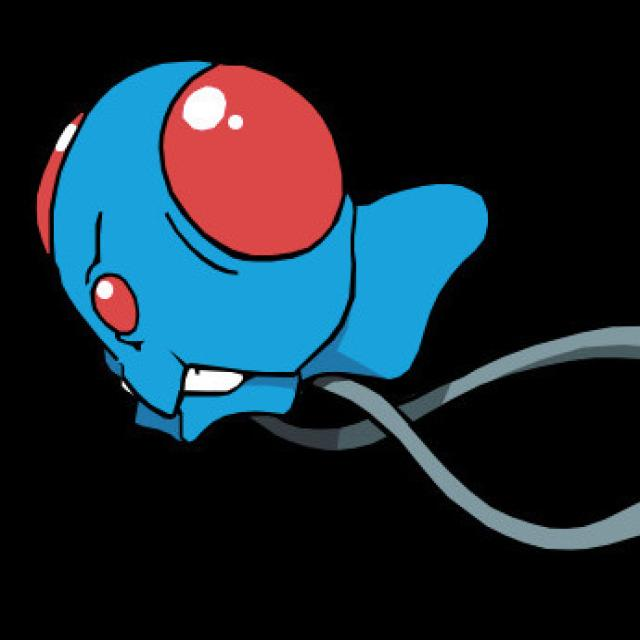Tentacool: (35, 55, 508, 483)
